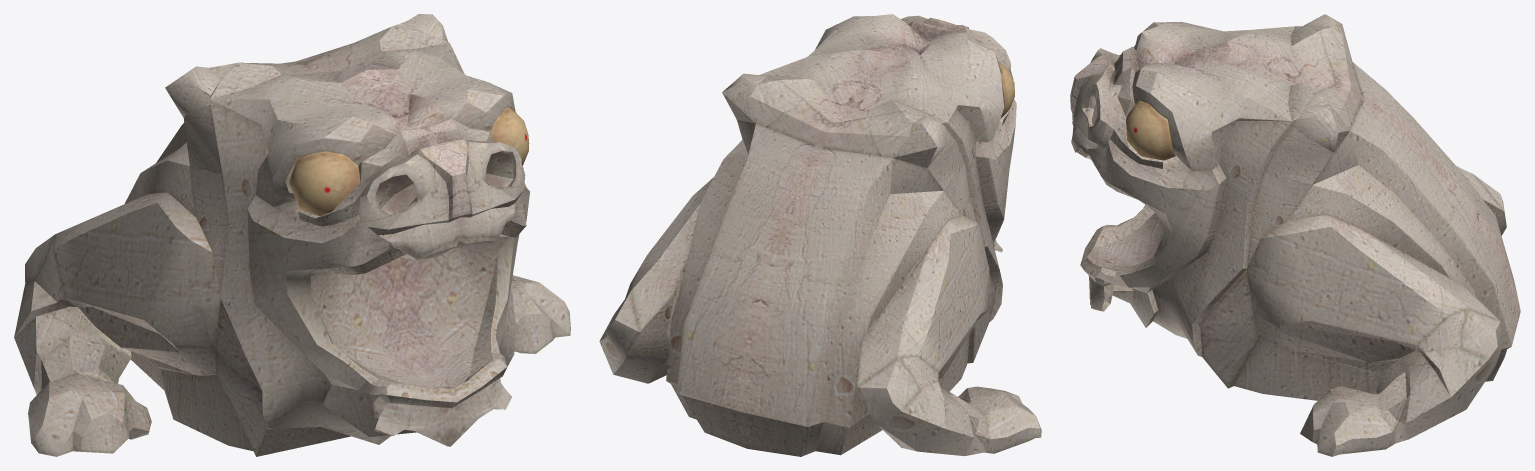
Rendered from gargoyle.glb.
3 views of the same model, side by side, from view 1: azimuth 30°, elevation 25°; view 2: azimuth 150°, elevation 25°; view 3: azimuth 270°, elevation 25° (orthographic). The views are drawn at different scales.
Parts seen in each view (by area): view 1: node_id32; view 2: node_id32; view 3: node_id32.
Part boxes in pixels (x1,y1,x2,y2): node_id32: (14,14,570,456); node_id32: (599,14,1041,456); node_id32: (1070,14,1520,456).
Size of the model in its own units: 0.5119 by 0.346 by 0.46.
Materials: 1 (1 with a texture image).
